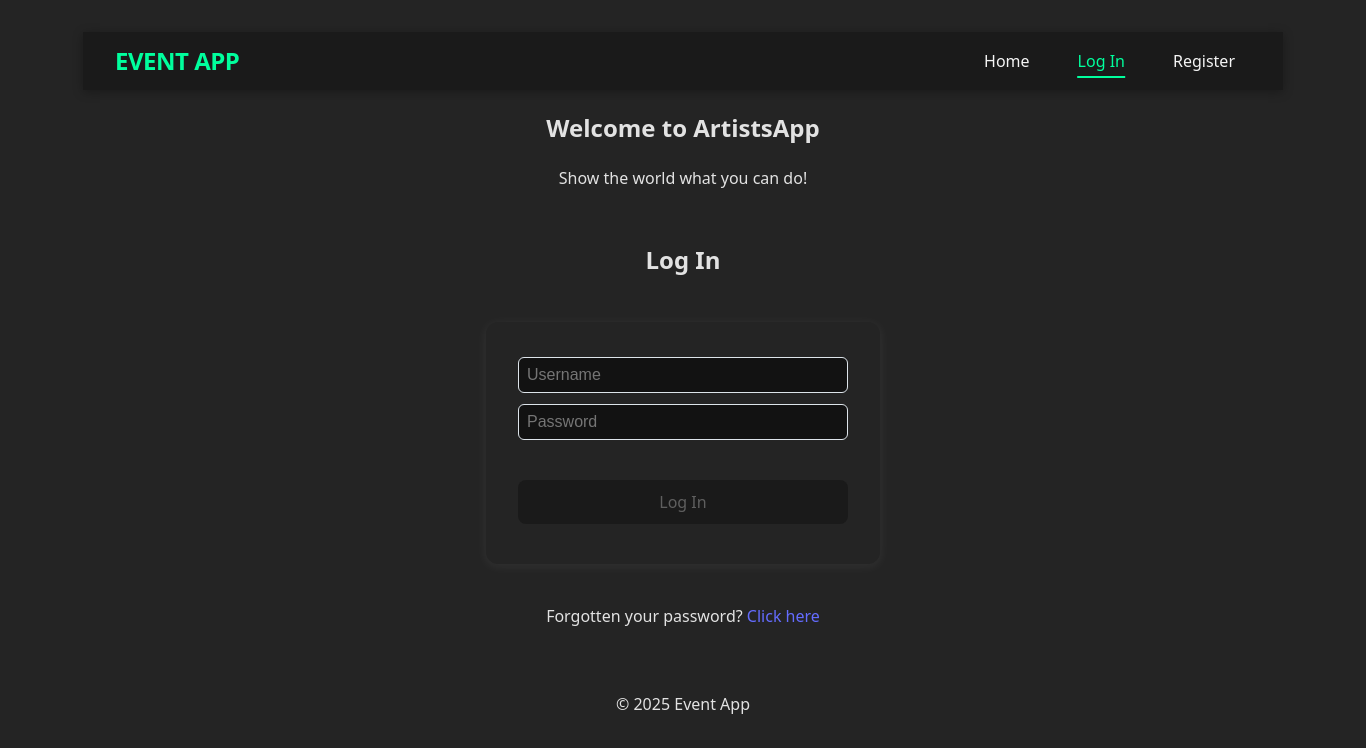
Login › write on input fields and success login
The image size is (1366, 748).
Note: Type on fields
Step 1. Type "testuser" into the field with placeholder "Username" → [683, 375], box [518,357,848,393]
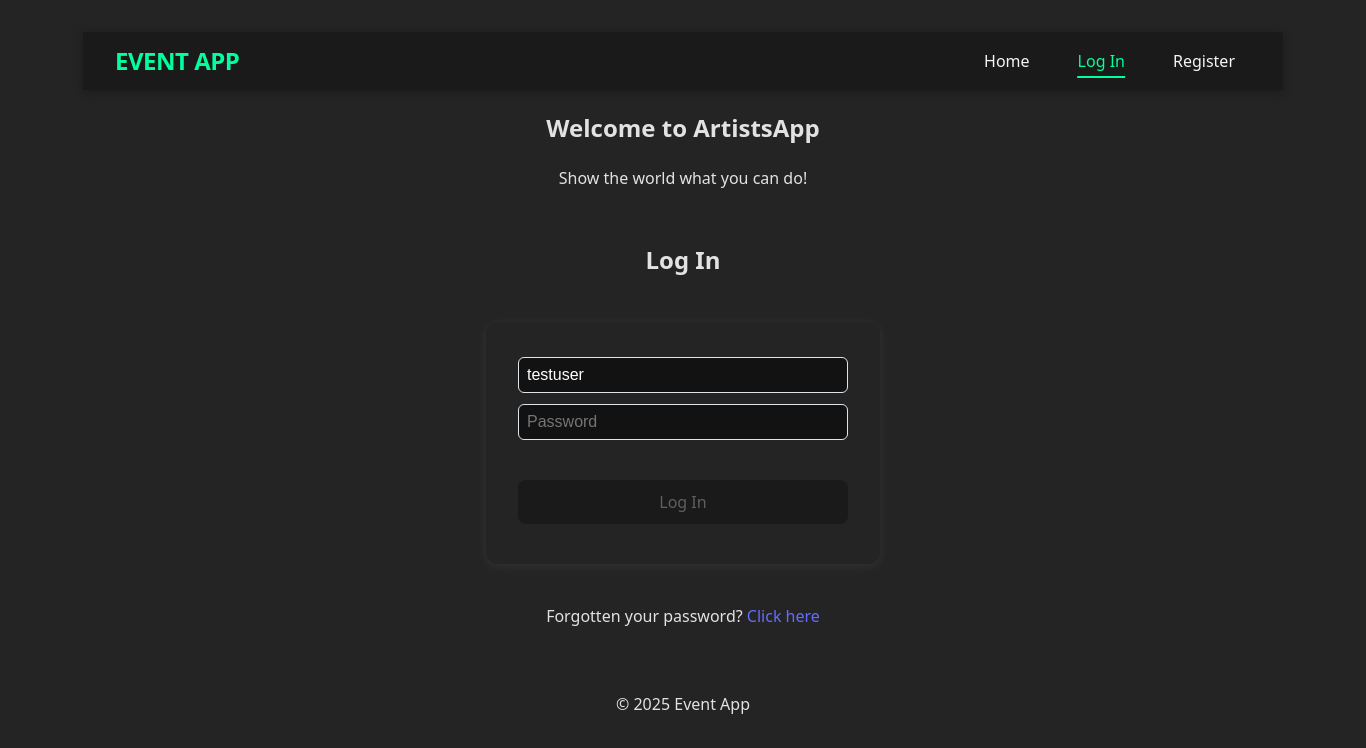
Step 2. Type "1234" into the password field with placeholder "Password" → [683, 422], box [518,404,848,440]
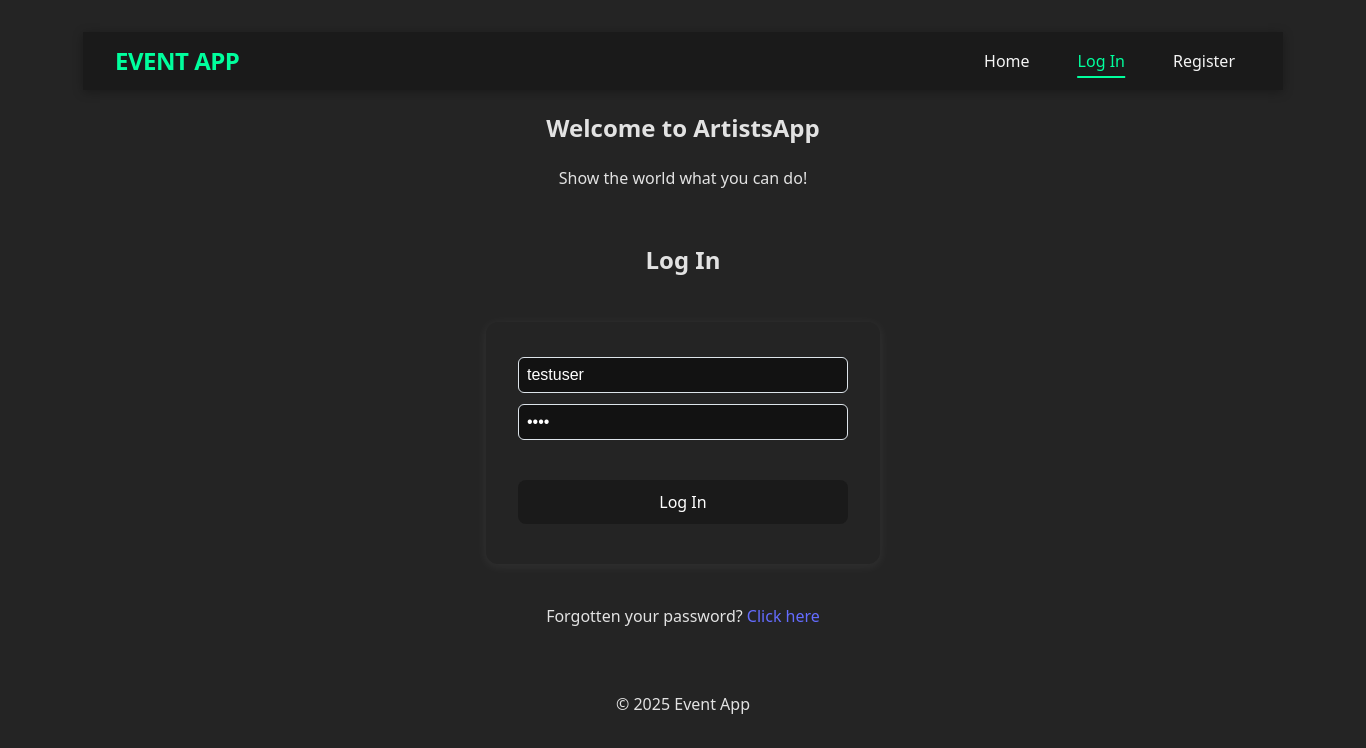
Check: the button "Log In" is enabled
Note: Click on login button
Step 3. Click the button "Log In" → [683, 502], box [518,480,848,524]
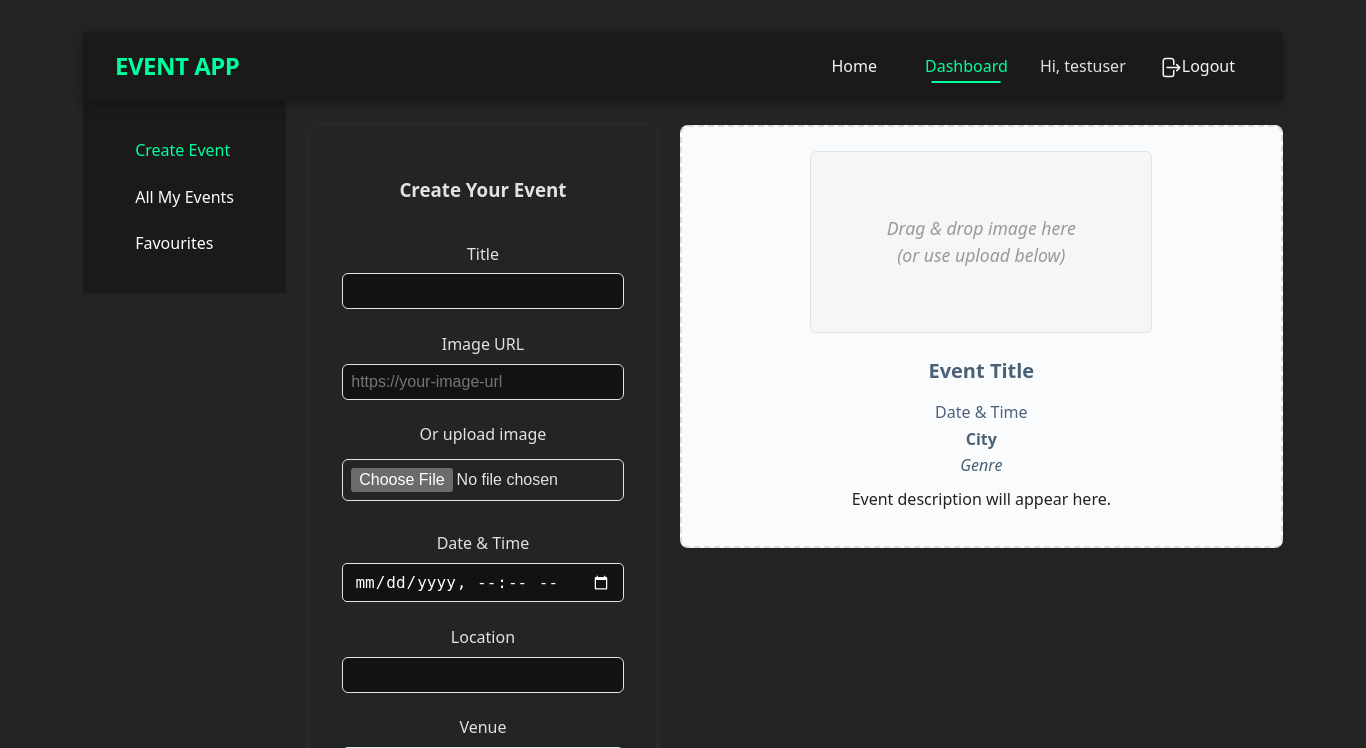
Check: the heading "Create Your Event" is shown, box [400,176,566,202]
